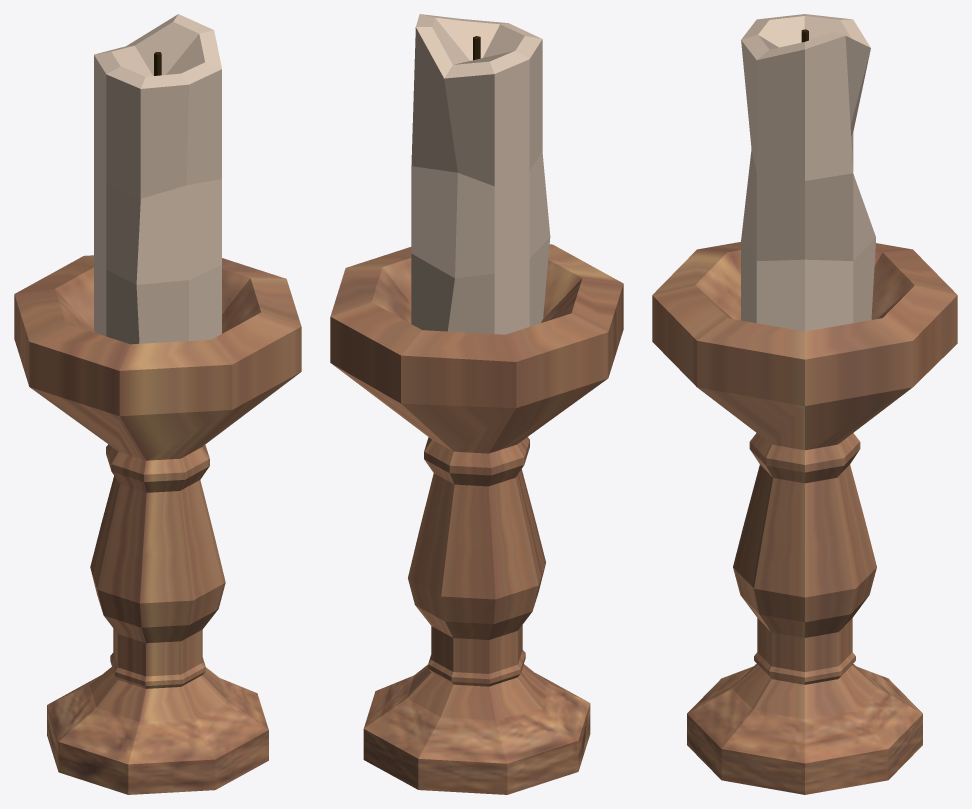
Rendered from candle2.0.fbx.
3 views of the same model, side by side, from view 1: azimuth 30°, elevation 25°; view 2: azimuth 150°, elevation 25°; view 3: azimuth 270°, elevation 25° (orthographic). The views are drawn at different scales.
Parts seen in each view (by area): view 1: Sphere; view 2: Sphere; view 3: Sphere.
Boxes of the visible parts, bbox=[...] form: Sphere: bbox=[14, 14, 301, 794]; Sphere: bbox=[330, 14, 623, 794]; Sphere: bbox=[652, 14, 957, 794].
Size of the model in its own units: 58.63 by 155 by 58.63.
Materials: 3 (1 with a texture image).
